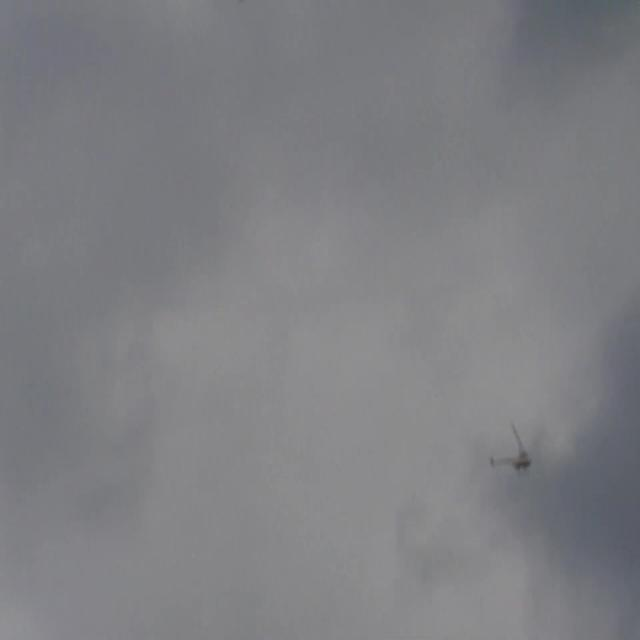CIV_HELO: (489, 438, 532, 478)
